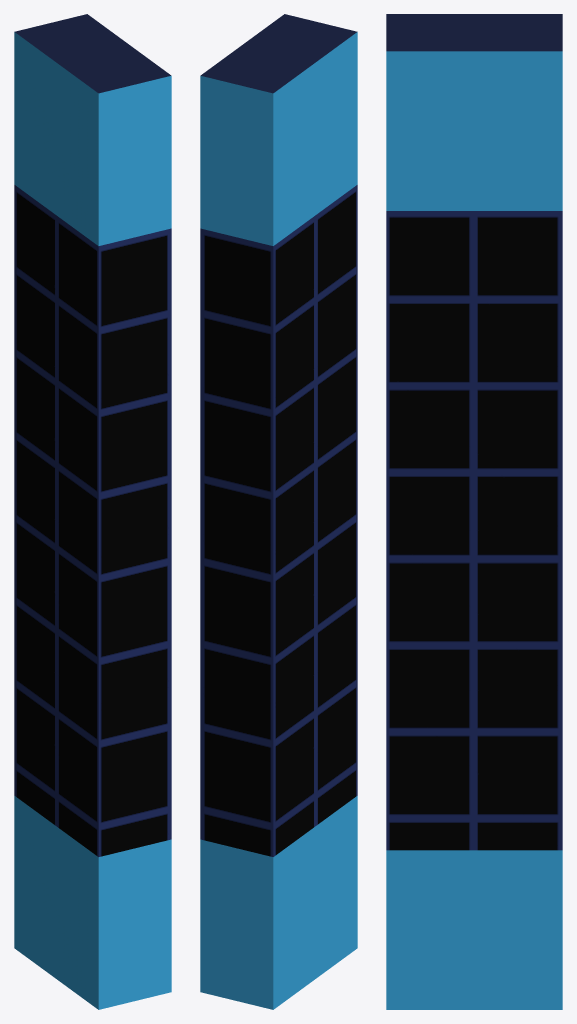
The model's file is wall_side.glb.
3 renders of one model, left to right at view 1: azimuth 30°, elevation 25°; view 2: azimuth 150°, elevation 25°; view 3: azimuth 270°, elevation 25°, orthographic. The views are drawn at different scales.
Parts seen in each view (by area): view 1: WallSide; view 2: WallSide; view 3: WallSide.
Boxes of the visible parts, bbox=[...] form: WallSide: bbox=[14, 14, 171, 1009]; WallSide: bbox=[200, 14, 357, 1009]; WallSide: bbox=[386, 14, 562, 1009].
Size of the model in its own units: 0.25 by 3 by 0.5.
Materials: 3 (1 with a texture image).
